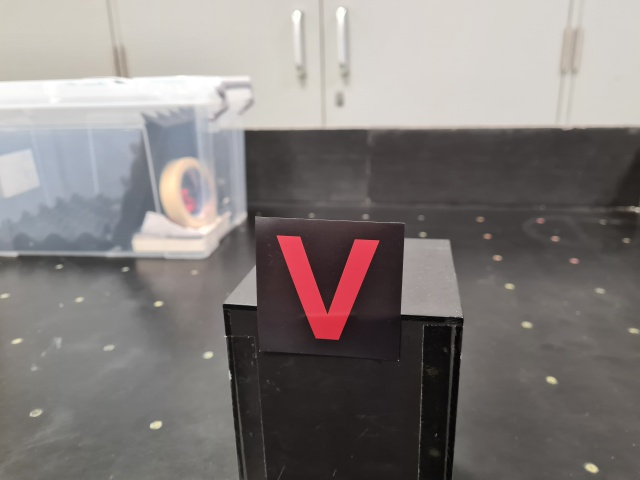alphabet_v: (253, 215, 405, 363)
